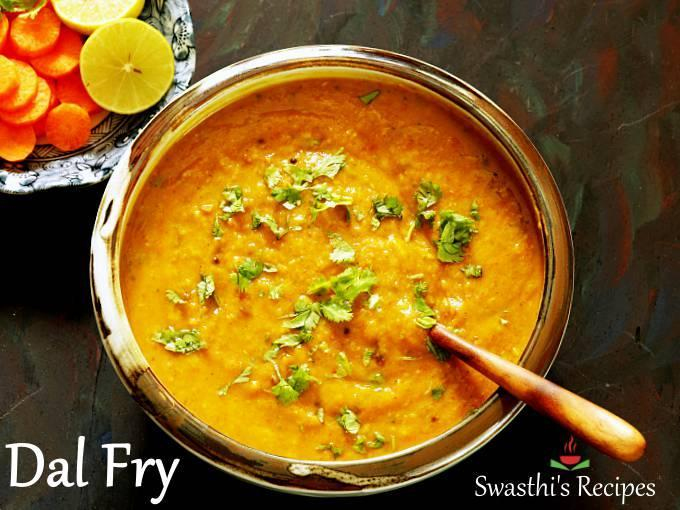dal: (114, 75, 549, 459)
